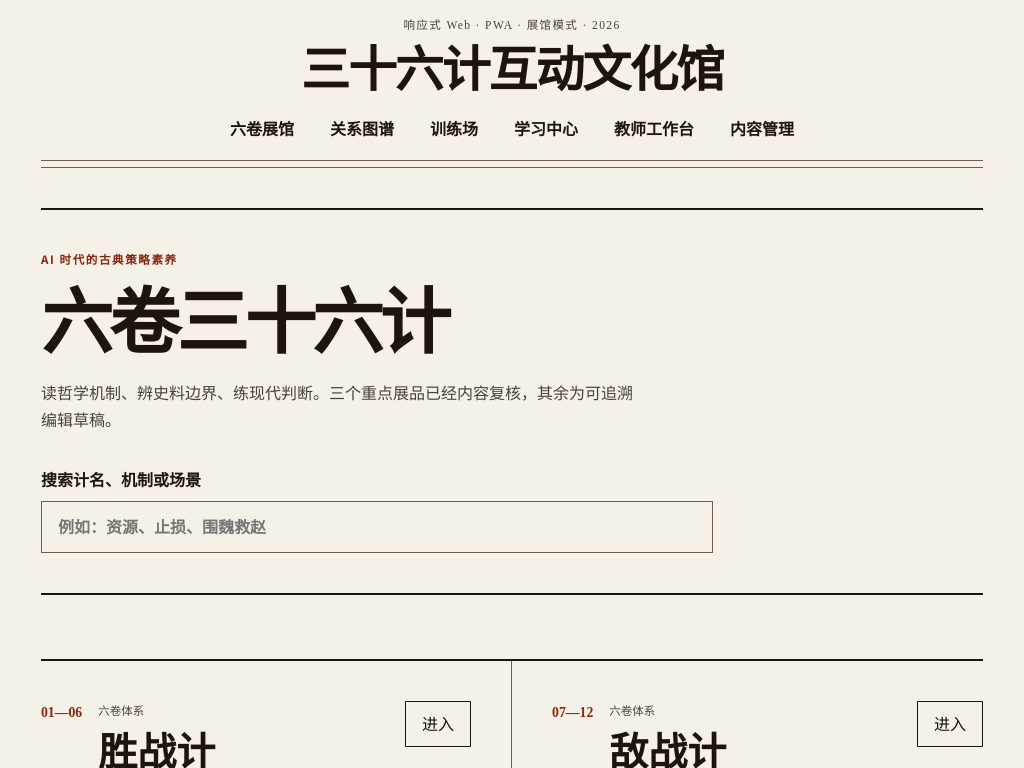
Test: responsive interactive museum › offers graph, learning, teacher and admin workspaces
What coordinates should you click on to do the following:
click the button "关系图谱"
I would click on:
 (362, 129)
Its box is [324,106,400,152].
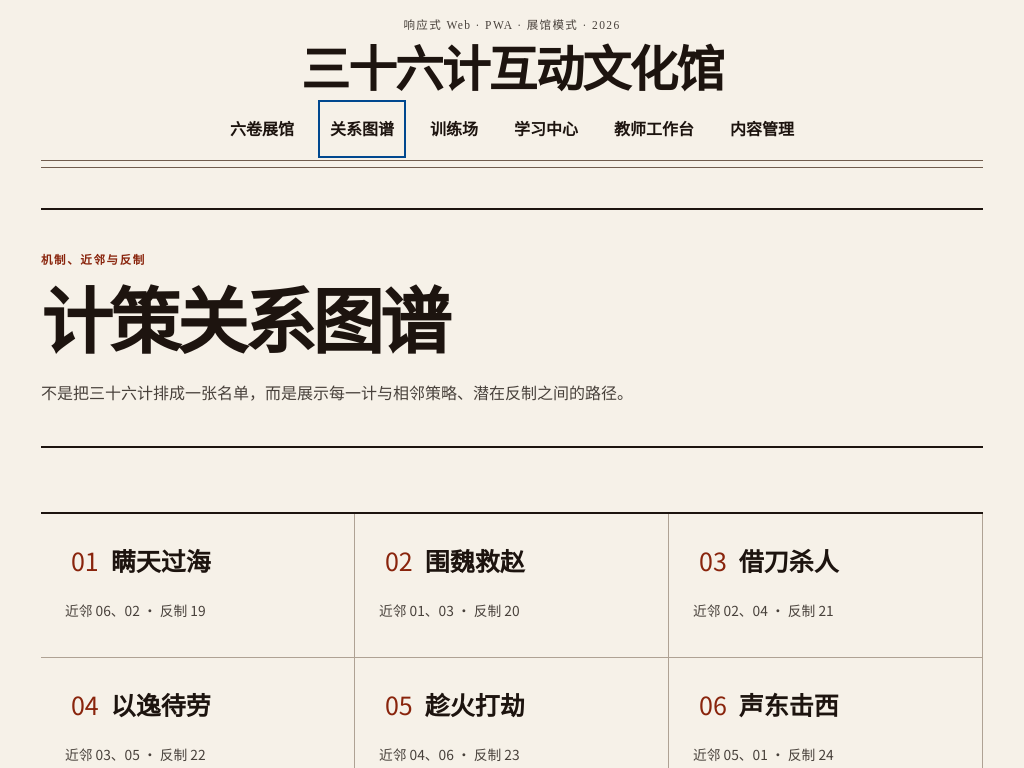
Expected: the heading "计策关系图谱" is shown, [41,286,507,363]
What coordinates should you click on to do the following:
click the button "学习中心"
I would click on:
 (546, 129)
Its box is [508,106,584,152].
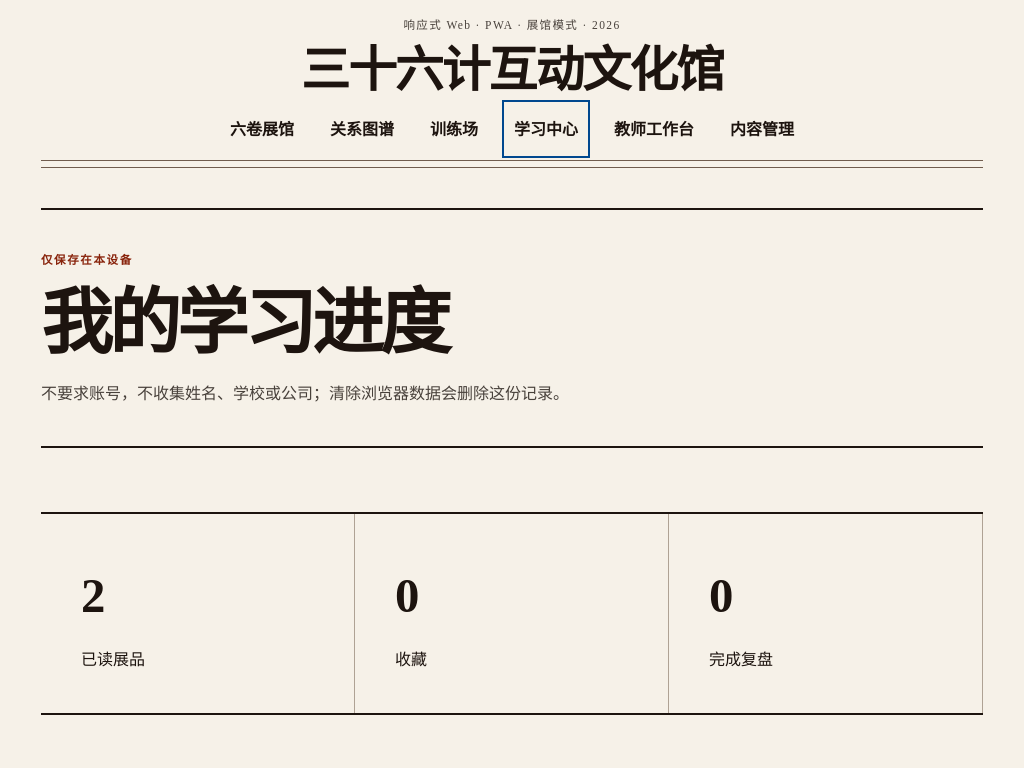
Expected: the heading "我的学习进度" is shown, [41,286,507,363]
What coordinates should you click on to do the following:
click the button "教师工作台"
I would click on:
 (654, 129)
Its box is [608,106,700,152].
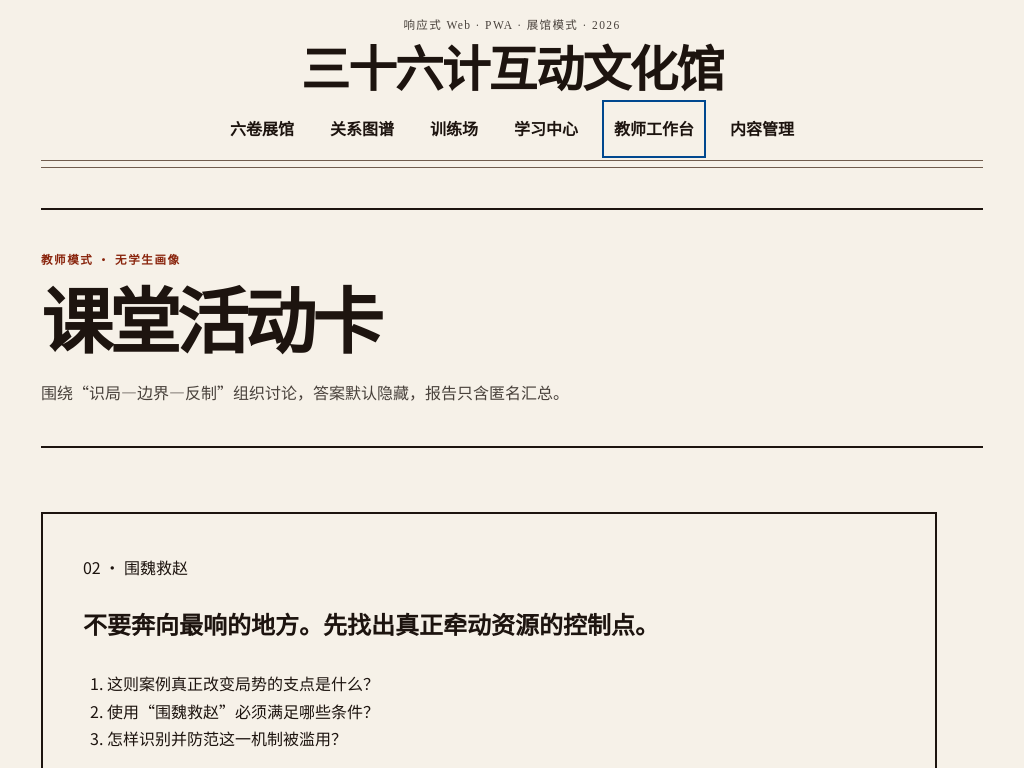
Expected: the heading "课堂活动卡" is shown, [41,284,380,364]
What coordinates should you click on to do the following:
click the button "内容管理"
I would click on:
 (762, 129)
Its box is [724,106,800,152].
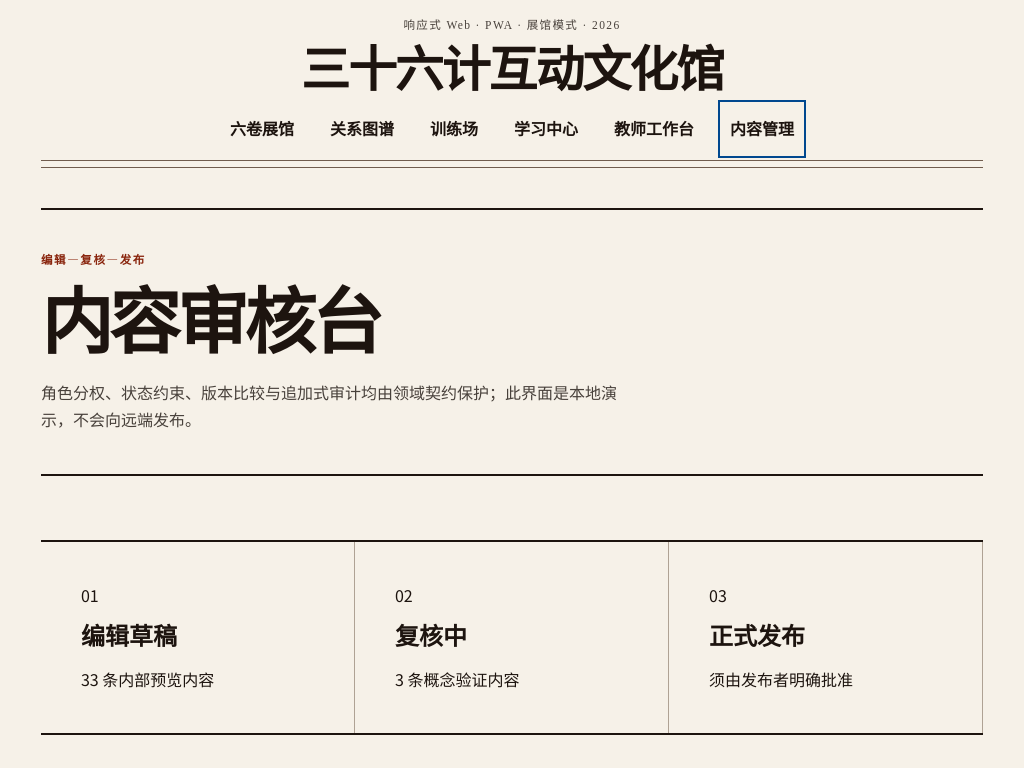
Expected: the heading "内容审核台" is shown, [41,284,380,364]
